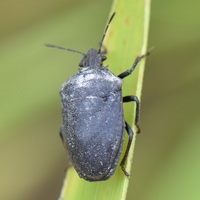insect: (45, 12, 148, 180)
